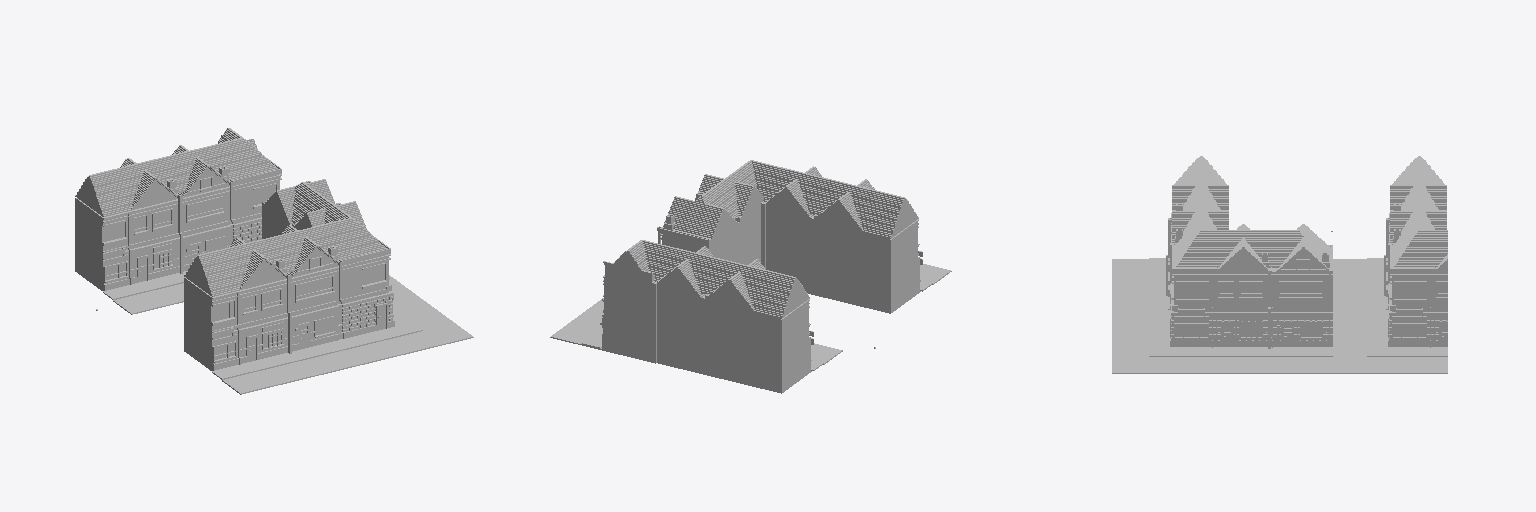
The model's file is bpw-0.obj.
The picture shows the model from 3 angles: view 1: azimuth 30°, elevation 25°; view 2: azimuth 150°, elevation 25°; view 3: azimuth 270°, elevation 25°; orthographic projection.
Parts seen in each view (by area): view 1: object 1; view 2: object 1; view 3: object 1.
Part boxes in pixels (x1,y1,x2,y2): object 1: (75, 128, 473, 394); object 1: (550, 160, 951, 393); object 1: (1112, 156, 1447, 373).
Size of the model in its own units: 23.5 by 8.9 by 25.6.